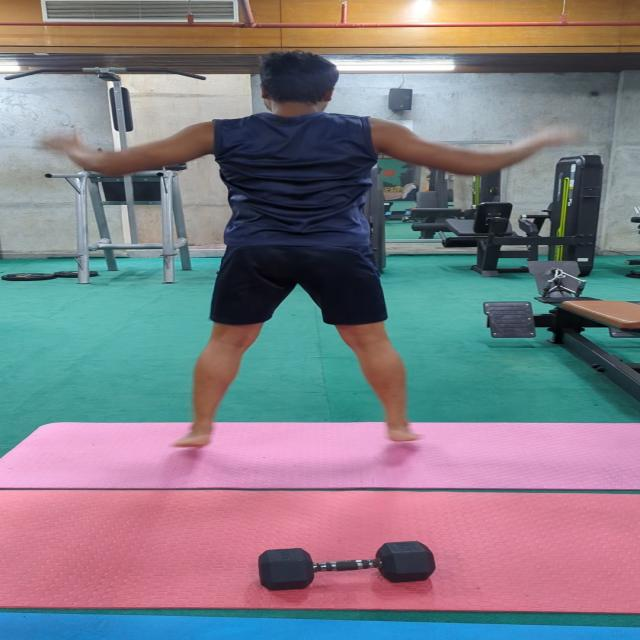Normal_JumpingJacks: (45, 42, 577, 462)
